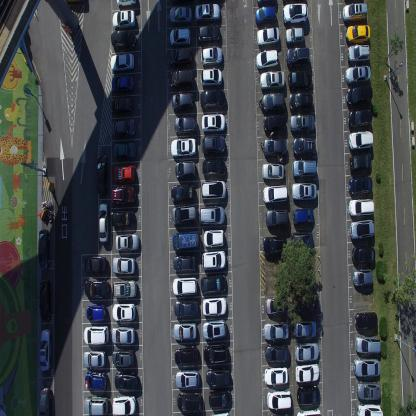car: (345, 84, 373, 108), (282, 2, 308, 25), (170, 137, 197, 159), (172, 230, 199, 252), (341, 1, 368, 23), (350, 218, 374, 242), (203, 342, 228, 365), (172, 204, 198, 226), (264, 343, 290, 365), (266, 389, 292, 411), (200, 134, 226, 156), (110, 184, 136, 206), (348, 129, 374, 151), (110, 29, 137, 50), (258, 70, 285, 91), (168, 46, 192, 69), (172, 275, 197, 297), (202, 319, 227, 341), (195, 1, 220, 23), (169, 68, 194, 90), (285, 45, 310, 67), (176, 393, 202, 414), (261, 235, 287, 256), (84, 279, 110, 300), (83, 325, 109, 346), (345, 63, 371, 84), (353, 357, 380, 377), (257, 25, 280, 48), (171, 182, 195, 204), (39, 328, 51, 372), (295, 362, 319, 384), (39, 276, 51, 320), (112, 7, 136, 29), (168, 4, 192, 26), (201, 249, 226, 270), (295, 342, 320, 363), (261, 92, 286, 113), (348, 176, 373, 197), (200, 274, 226, 294), (199, 205, 225, 225), (174, 369, 200, 389), (263, 322, 289, 342), (355, 334, 381, 354), (293, 294, 319, 314), (110, 117, 136, 137), (199, 88, 225, 108), (291, 181, 317, 201), (290, 231, 313, 253), (199, 44, 222, 66), (174, 298, 198, 319), (174, 346, 198, 367), (264, 208, 288, 229), (84, 371, 108, 392), (38, 228, 50, 270), (96, 153, 108, 195), (110, 51, 134, 72), (255, 48, 279, 69), (288, 69, 312, 90), (348, 152, 372, 173), (348, 107, 372, 128), (202, 296, 227, 316), (83, 395, 108, 415), (263, 183, 288, 203), (346, 42, 371, 62), (110, 396, 136, 415), (200, 180, 226, 199), (114, 232, 140, 251), (345, 23, 371, 42), (348, 198, 375, 216), (111, 72, 133, 94), (200, 66, 222, 88), (171, 90, 193, 112), (175, 159, 196, 182), (292, 135, 315, 156), (264, 137, 287, 158), (173, 321, 197, 341), (206, 368, 230, 388), (113, 279, 137, 299), (112, 302, 136, 322), (114, 372, 138, 392), (357, 380, 381, 400), (297, 385, 321, 405), (264, 366, 288, 386), (113, 140, 137, 160), (263, 113, 287, 133), (201, 158, 226, 177), (111, 209, 136, 228), (288, 92, 313, 111), (289, 113, 314, 132), (292, 158, 317, 177), (110, 94, 132, 115), (208, 389, 231, 409), (355, 310, 378, 330), (174, 116, 197, 136), (293, 321, 317, 340), (201, 113, 225, 132), (351, 247, 375, 266), (38, 384, 52, 416), (203, 228, 225, 248), (98, 201, 108, 245), (255, 5, 277, 25), (292, 206, 314, 226), (113, 164, 136, 183), (198, 24, 221, 43), (168, 27, 191, 46), (112, 256, 136, 274), (111, 350, 135, 368), (82, 350, 106, 368), (352, 268, 373, 288), (262, 161, 284, 180), (173, 254, 196, 272), (285, 26, 305, 46), (85, 304, 106, 323), (265, 296, 286, 315), (112, 326, 134, 344), (84, 255, 106, 273), (357, 402, 383, 415), (297, 408, 321, 415), (115, 0, 136, 8), (208, 410, 230, 415), (254, 0, 275, 5)
